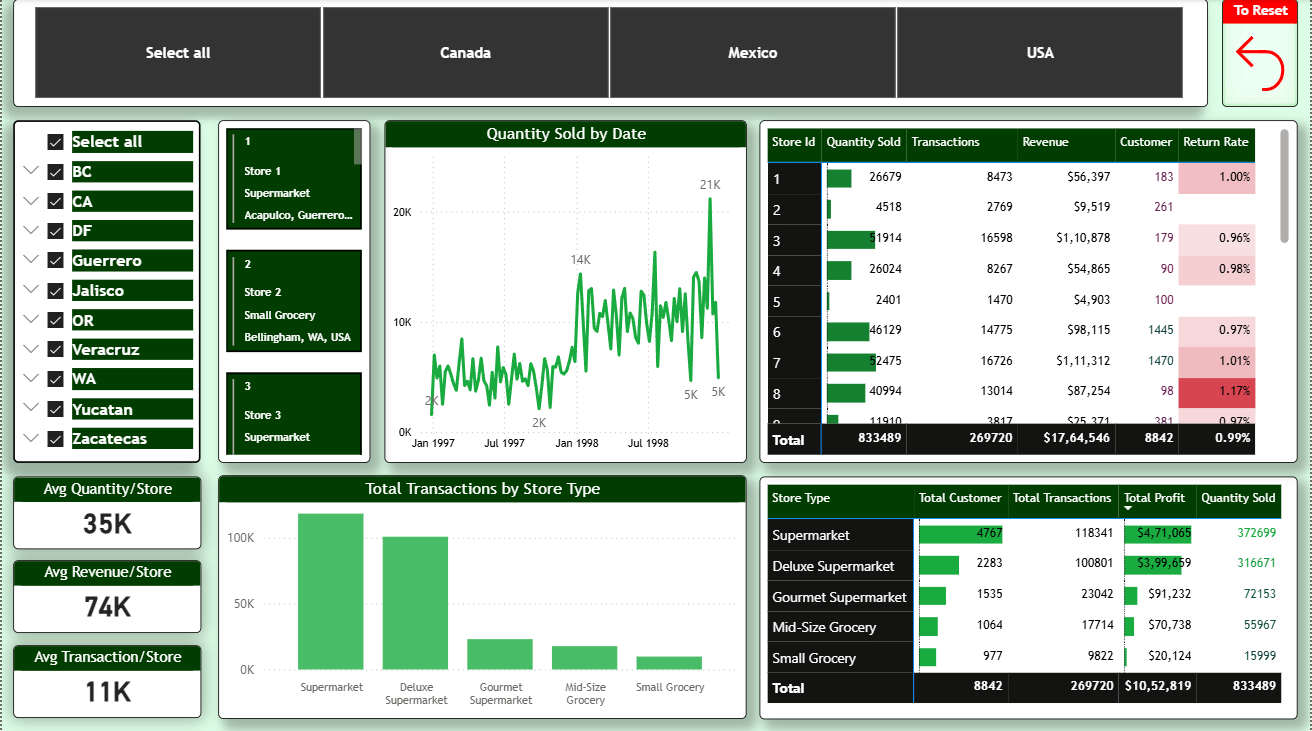

This screenshot's page, from the dashboard's own definition file:
{"tool":"powerbi","page":{"name":"Stores","canvas":[1280,720],"ordinal":3},"visuals":[{"type":"clusteredColumnChart","fields":{"Category":["Store.store_type"],"Y":["Measure Table.Total Transactions"]},"box":[212.1,466.3,516.5,238],"z":0},{"type":"pivotTable","fields":{"Rows":["Store.store_type"],"Values":["Measure Table.Total Customer 3","Measure Table.Total Transactions","Measure Table.Total Profit","Measure Table.Quantity Sold"]},"box":[741.3,466.6,526.7,237.4],"z":1000},{"type":"slicer","fields":{"Values":["Store.store_country"]},"box":[11.3,0,1169.1,105.2],"z":2000},{"type":"lineChart","fields":{"Y":["Measure Table.Quantity Sold"],"Category":["LocalDateTable_da8aaf93-24b1-45d9-8e76-9ab79ff85021.Date"]},"box":[374,118.2,354.6,335.2],"z":3000},{"type":"slicer","fields":{"Values":["Store.store_state","Store.store_city"]},"box":[11.3,118.2,183,335.2],"z":4000},{"type":"actionButton","title":"To Reset","box":[1193.4,0,74.5,105.2],"z":5000},{"type":"card","title":"Avg Transaction/Store","fields":{"Values":["Measure Table.Avg Transaction/Store"]},"box":[11.4,632.4,183.7,71.5],"z":6000},{"type":"card","title":"Avg Revenue/Store","fields":{"Values":["Measure Table.Avg Revenue/Store"]},"box":[11.4,549.5,183.7,71.5],"z":7000},{"type":"card","title":"Avg Quantity/Store","fields":{"Values":["Measure Table.Avg Quantity/Store"]},"box":[11.4,466.6,183.7,71.5],"z":8000},{"type":"multiRowCard","fields":{"Values":["Store.store_id","Store.store_name","Store.Store Type","Store.Full Address"]},"box":[212.1,118.2,149,335.2],"z":9000},{"type":"pivotTable","fields":{"Rows":["Store.store_id"],"Values":["Measure Table.Quantity Sold","Measure Table.Total Transactions","Measure Table.Total Revenue","Measure Table.Total Customer","Measure Table.Return Rate"]},"box":[741.6,118.2,526.2,335.2],"z":10000}]}

Visuals, with their boxes in screenshot pixels (x1, y1, x2, y2), scaled from the page's 1280x720 canvas onto the 1312x731 screenshot:
clusteredColumnChart - Store.store_type x Measure Table.Total Transactions: [x1=217, y1=473, x2=747, y2=715]
pivotTable - Store.store_type x Measure Table.Total Customer 3: [x1=760, y1=474, x2=1300, y2=715]
slicer - Store.store_country: [x1=12, y1=0, x2=1210, y2=107]
lineChart - Measure Table.Quantity Sold x LocalDateTable_da8aaf93-24b1-45d9-8e76-9ab79ff85021.Date: [x1=383, y1=120, x2=747, y2=460]
slicer - Store.store_state x Store.store_city: [x1=12, y1=120, x2=199, y2=460]
"To Reset" actionButton: [x1=1223, y1=0, x2=1300, y2=107]
"Avg Transaction/Store" card: [x1=12, y1=642, x2=200, y2=715]
"Avg Revenue/Store" card: [x1=12, y1=558, x2=200, y2=630]
"Avg Quantity/Store" card: [x1=12, y1=474, x2=200, y2=546]
multiRowCard - Store.store_id x Store.store_name: [x1=217, y1=120, x2=370, y2=460]
pivotTable - Store.store_id x Measure Table.Quantity Sold: [x1=760, y1=120, x2=1299, y2=460]
